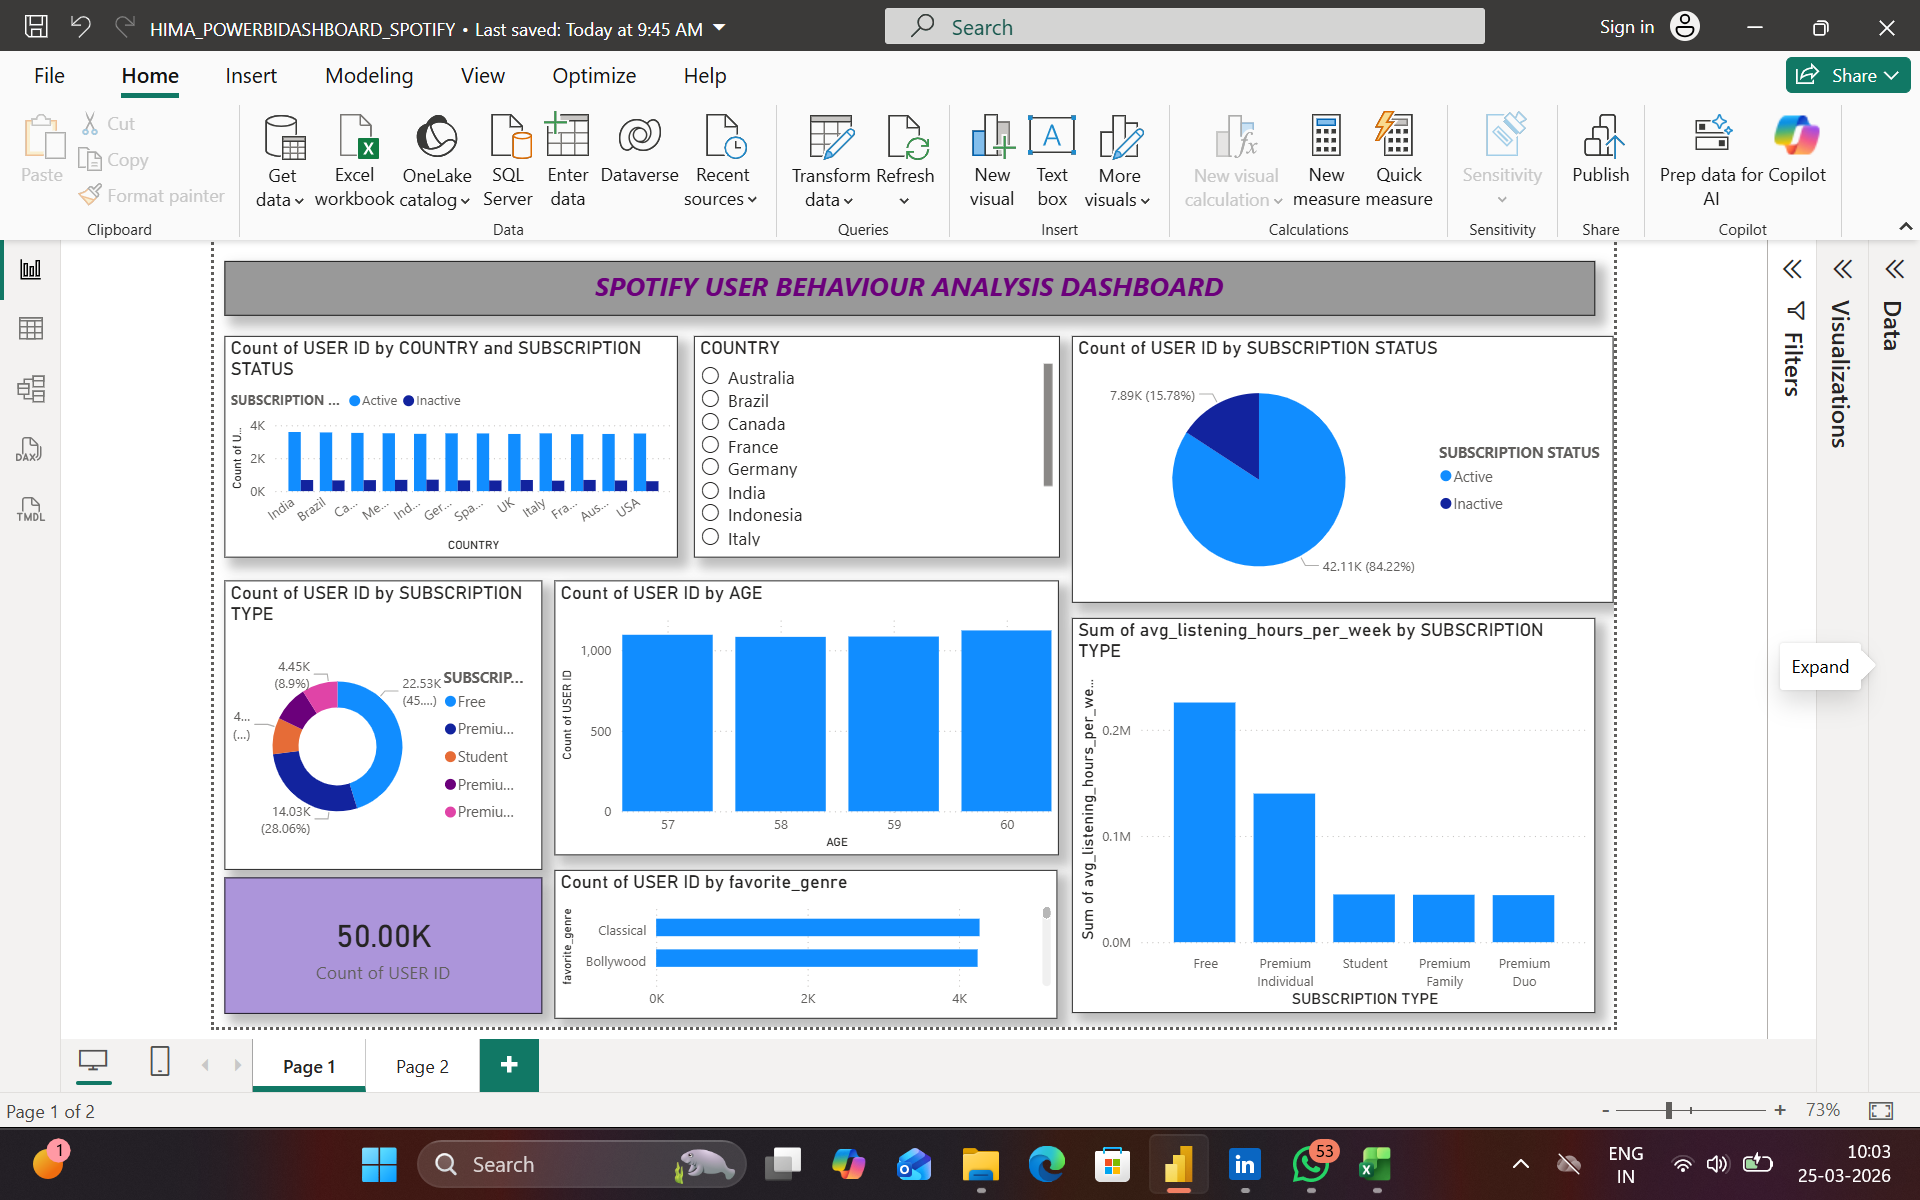

This screenshot's page, from the dashboard's own definition file:
{"tool":"powerbi","page":{"name":"Page 1","canvas":[1280,720],"ordinal":0},"visuals":[{"type":"clusteredColumnChart","fields":{"Category":["spotify_user_behavior_realistic.COUNTRY"],"Y":["CountNonNull(spotify_user_behavior_realistic.USER ID)"],"Series":["spotify_user_behavior_realistic.SUBSCRIPTION STATUS"]},"box":[9.1,87.8,414.9,202.9],"z":0},{"type":"donutChart","fields":{"Category":["spotify_user_behavior_realistic.SUBSCRIPTION TYPE"],"Y":["CountNonNull(spotify_user_behavior_realistic.USER ID)"]},"box":[9.1,311.9,290.7,265],"z":1000},{"type":"card","fields":{"Values":["CountNonNull(spotify_user_behavior_realistic.USER ID)"]},"box":[9.5,582.6,290.5,124.7],"z":2000},{"type":"listSlicer","fields":{"Values":["spotify_user_behavior_realistic.COUNTRY"]},"box":[439.1,87.8,334.6,202.9],"z":3000},{"type":"columnChart","fields":{"Category":["spotify_user_behavior_realistic.AGE"],"Y":["CountNonNull(spotify_user_behavior_realistic.USER ID)"]},"box":[311.5,311.5,461.1,251.1],"z":4000},{"type":"barChart","fields":{"Category":["spotify_user_behavior_realistic.favorite_genre"],"Y":["CountNonNull(spotify_user_behavior_realistic.USER ID)"]},"box":[311.9,576.9,460.3,136.3],"z":5000},{"type":"pieChart","fields":{"Category":["spotify_user_behavior_realistic.SUBSCRIPTION STATUS"],"Y":["CountNonNull(spotify_user_behavior_realistic.USER ID)"]},"box":[785,87.8,478.9,244.3],"z":6000},{"type":"columnChart","fields":{"Category":["spotify_user_behavior_realistic.SUBSCRIPTION TYPE"],"Y":["Sum(spotify_user_behavior_realistic.avg_listening_hours_per_week)"]},"box":[784.7,345.8,478.4,361.6],"z":7000},{"type":"textbox","box":[9.1,19.7,1253.8,50],"z":7001}]}

Visuals, with their boxes on the page's 1280x720 design canvas (x1, y1, x2, y2). These are canvas units, not pixel positions in the 1920x1200 screenshot, which may show the page scaled, cropped or inside an application window:
clusteredColumnChart - spotify_user_behavior_realistic.COUNTRY x CountNonNull(spotify_user_behavior_realistic.USER ID): box=[9, 88, 424, 291]
donutChart - spotify_user_behavior_realistic.SUBSCRIPTION TYPE x CountNonNull(spotify_user_behavior_realistic.USER ID): box=[9, 312, 300, 577]
card - CountNonNull(spotify_user_behavior_realistic.USER ID): box=[10, 583, 300, 707]
listSlicer - spotify_user_behavior_realistic.COUNTRY: box=[439, 88, 774, 291]
columnChart - spotify_user_behavior_realistic.AGE x CountNonNull(spotify_user_behavior_realistic.USER ID): box=[312, 312, 773, 563]
barChart - spotify_user_behavior_realistic.favorite_genre x CountNonNull(spotify_user_behavior_realistic.USER ID): box=[312, 577, 772, 713]
pieChart - spotify_user_behavior_realistic.SUBSCRIPTION STATUS x CountNonNull(spotify_user_behavior_realistic.USER ID): box=[785, 88, 1264, 332]
columnChart - spotify_user_behavior_realistic.SUBSCRIPTION TYPE x Sum(spotify_user_behavior_realistic.avg_listening_hours_per_week): box=[785, 346, 1263, 707]
textbox: box=[9, 20, 1263, 70]
